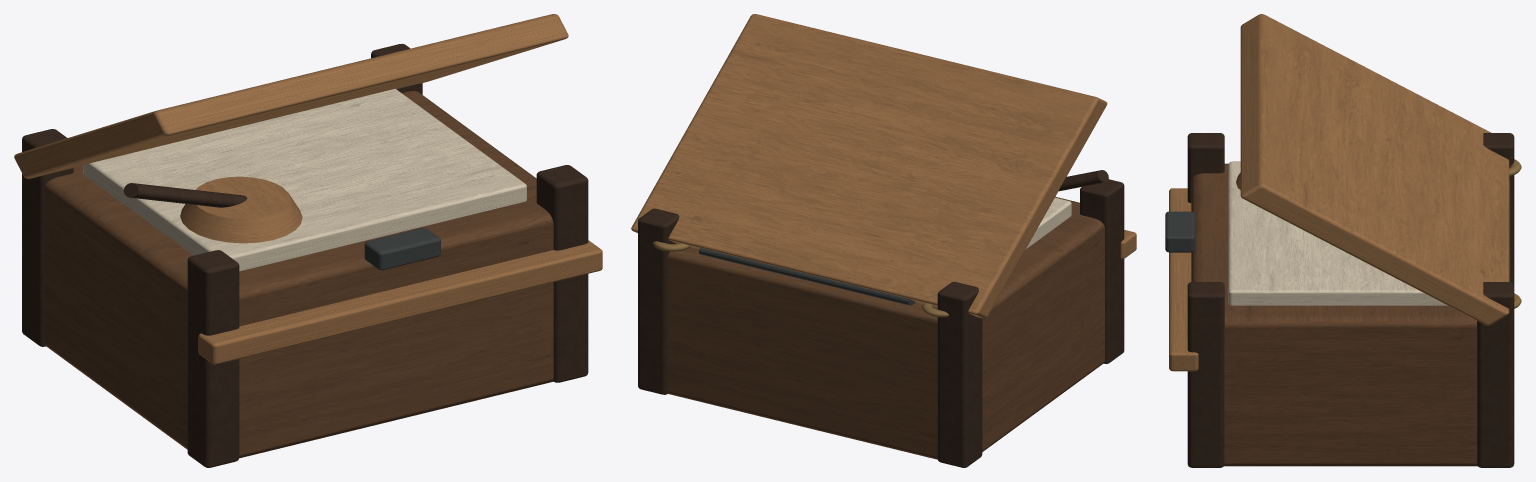
The model's file is flour_bin.glb.
The picture shows the model from 3 angles, left to right: view 1: azimuth 30°, elevation 25°; view 2: azimuth 150°, elevation 25°; view 3: azimuth 270°, elevation 25°; orthographic projection. The views are drawn at different scales.
Parts seen in each view (by area): view 1: flour_bin; view 2: flour_bin; view 3: flour_bin.
Boxes of the visible parts, box(x1,y1,x2,y2) form: flour_bin: box(14, 14, 602, 467); flour_bin: box(631, 14, 1136, 467); flour_bin: box(1165, 14, 1521, 467).
Bounding box in the file's own units: 1.2 × 0.9 × 1.
1 material, 1 textured.
